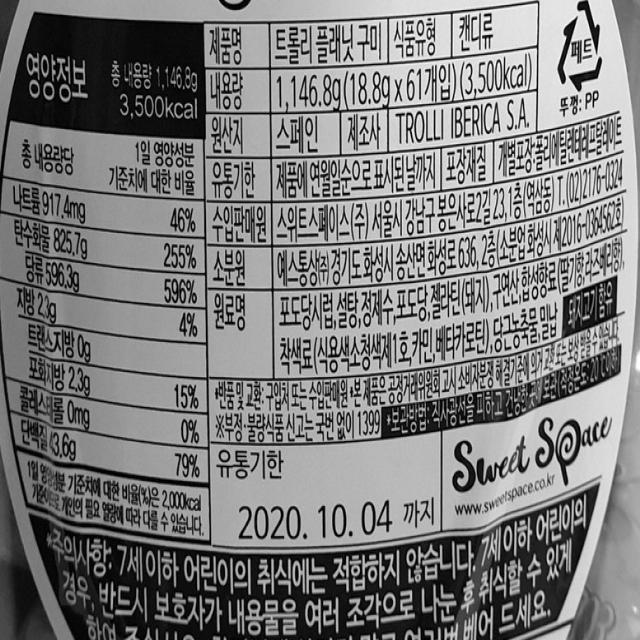Nutrition Label: (0, 7, 214, 548)
